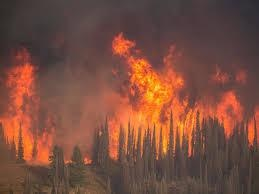fire: (41, 25, 259, 156), (0, 52, 60, 160)
